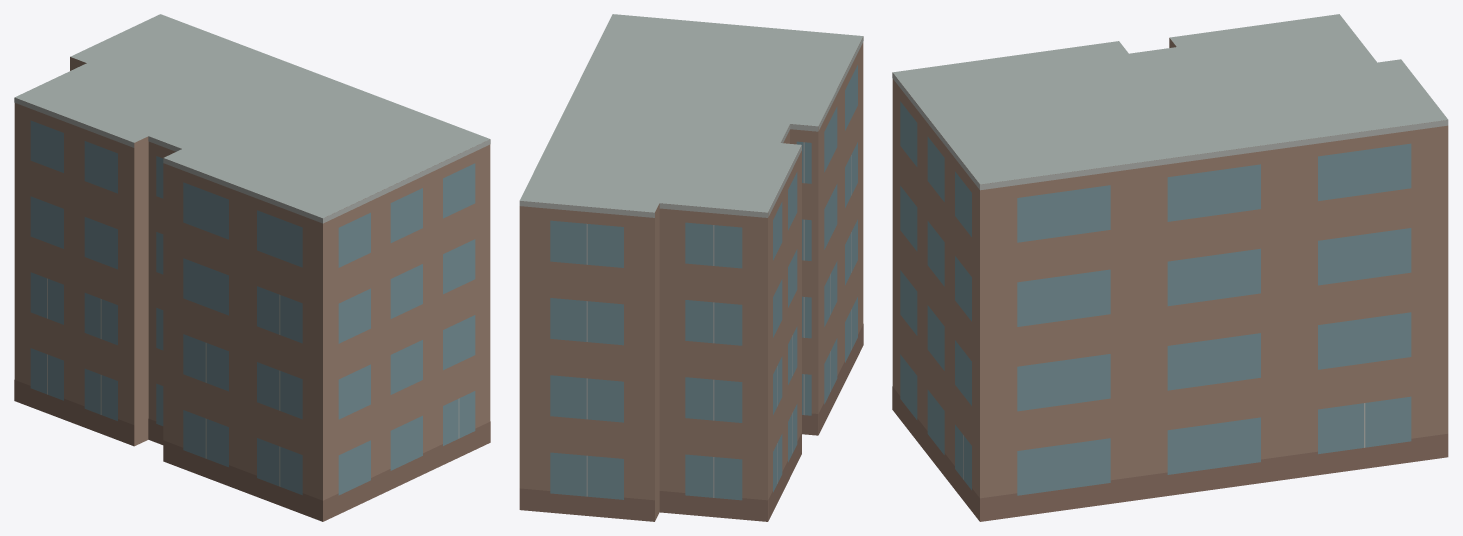
File: survey-upis-32661408.glb
The picture shows the model from 3 angles, left to right: view 1: azimuth 30°, elevation 25°; view 2: azimuth 150°, elevation 25°; view 3: azimuth 270°, elevation 25°; orthographic projection. The views are drawn at different scales.
Visible parts, largest first — view 1: survey-upis-32661408.tmp; view 2: survey-upis-32661408.tmp; view 3: survey-upis-32661408.tmp.
Boxes of the visible parts, x1=… form: survey-upis-32661408.tmp: x1=14, y1=14, x2=490, y2=521; survey-upis-32661408.tmp: x1=519, y1=14, x2=863, y2=521; survey-upis-32661408.tmp: x1=892, y1=14, x2=1448, y2=521.
Bounding box in the file's own units: 15.4 × 14.2 × 21.21.
